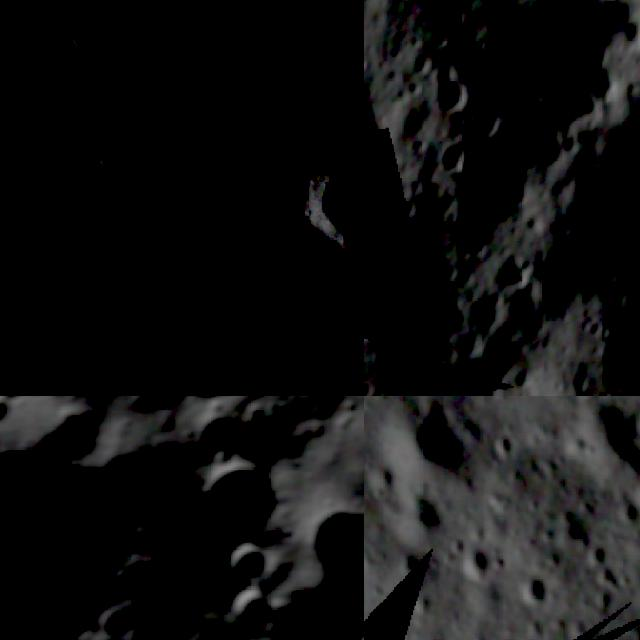crater: (0, 396, 322, 640), (380, 396, 480, 484), (210, 101, 291, 209), (290, 142, 364, 253), (560, 396, 640, 485), (485, 24, 560, 111), (212, 528, 274, 594), (220, 579, 285, 640), (152, 396, 266, 425), (320, 2, 364, 75), (264, 0, 340, 42), (421, 58, 478, 110), (87, 592, 147, 640), (397, 489, 448, 538), (60, 11, 108, 58), (364, 251, 407, 300), (453, 542, 500, 586), (426, 134, 471, 177), (6, 164, 48, 208), (490, 249, 530, 294), (518, 568, 558, 610), (611, 7, 640, 63), (552, 506, 592, 546), (462, 101, 500, 141), (495, 424, 521, 464), (613, 499, 640, 530)
